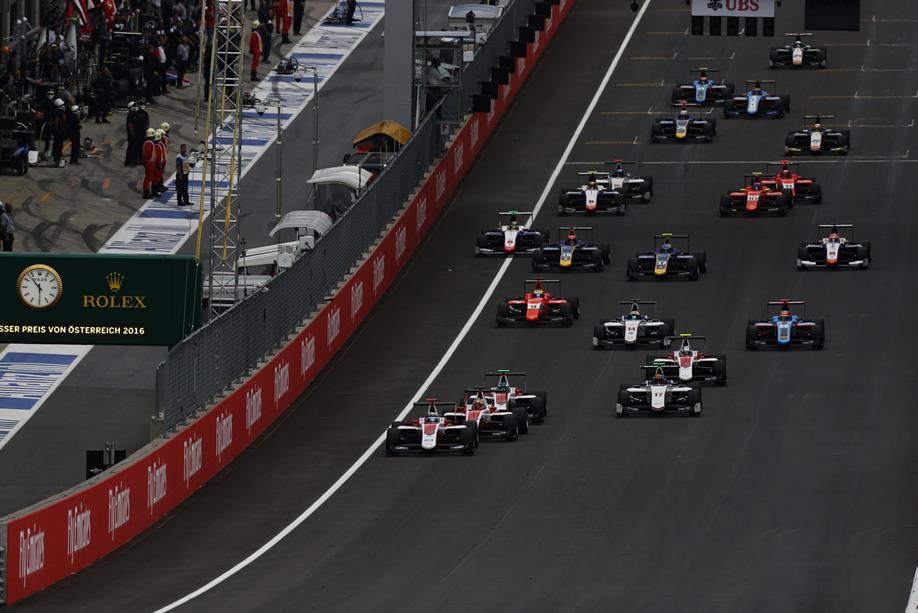race car: (385, 398, 480, 458), (435, 387, 530, 444), (615, 364, 705, 422), (590, 297, 677, 355), (643, 331, 728, 390), (742, 297, 828, 354), (493, 277, 583, 330), (463, 369, 548, 425), (624, 231, 709, 283), (530, 225, 613, 278), (795, 222, 874, 274), (472, 210, 550, 260), (717, 170, 794, 219), (748, 158, 824, 207), (556, 168, 625, 218), (582, 158, 655, 205), (781, 112, 853, 157), (722, 78, 793, 123), (649, 103, 719, 147), (669, 66, 735, 110), (766, 32, 827, 73)
